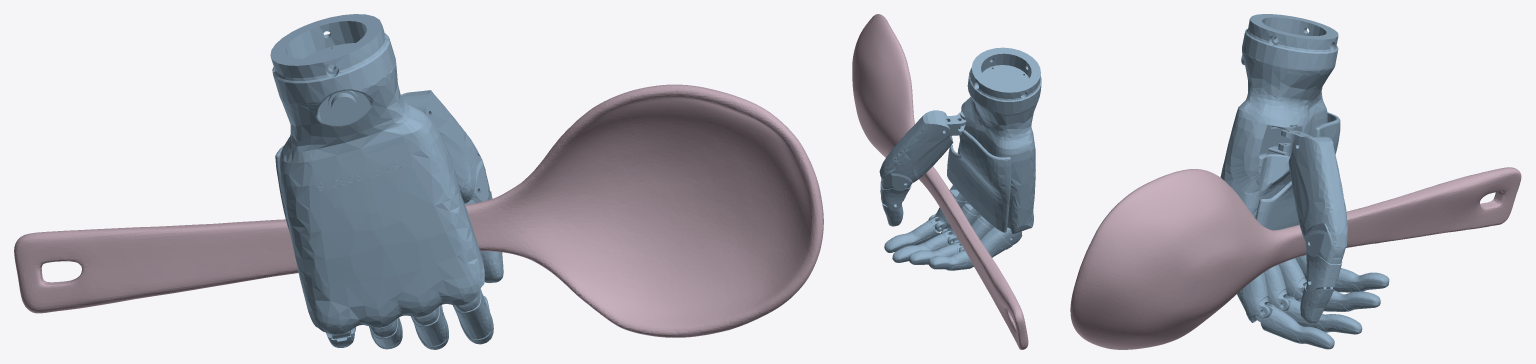
The picture shows the model from 3 angles, left to right: view 1: azimuth 30°, elevation 25°; view 2: azimuth 150°, elevation 25°; view 3: azimuth 270°, elevation 25°; orthographic projection. The views are drawn at different scales.
Visible parts, largest first — view 1: obj_mesh_grasp_0.obj, world; view 2: world, obj_mesh_grasp_0.obj; view 3: obj_mesh_grasp_0.obj, world.
Part boxes in pixels (box(x1,y1,x2,y2)): obj_mesh_grasp_0.obj: box(14, 84, 823, 337); world: box(270, 14, 503, 349); world: box(879, 47, 1041, 270); obj_mesh_grasp_0.obj: box(852, 14, 1028, 349); obj_mesh_grasp_0.obj: box(1070, 167, 1521, 349); world: box(1220, 14, 1389, 349).
Size of the model in its own units: 0.276 by 0.1706 by 0.2596.
